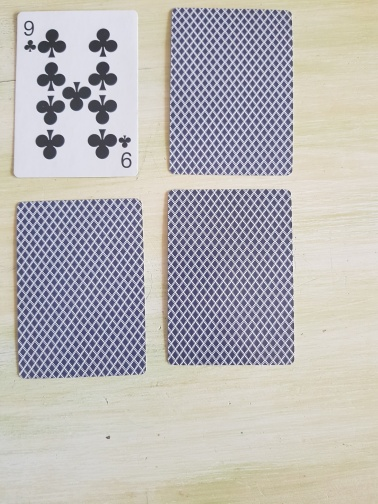nine: (11, 9, 140, 179)
